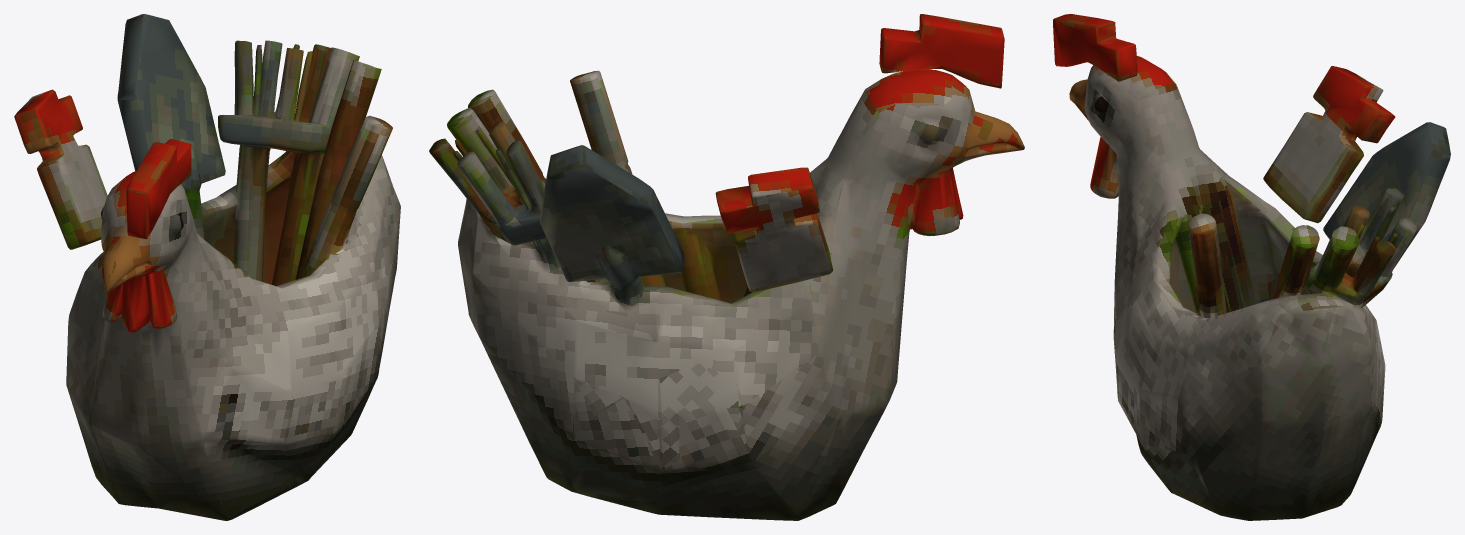
File: chicken_toolpot_psx.glb
The picture shows the model from 3 angles, left to right: view 1: azimuth 30°, elevation 25°; view 2: azimuth 150°, elevation 25°; view 3: azimuth 270°, elevation 25°; orthographic projection. The views are drawn at different scales.
Parts seen in each view (by area): view 1: chicken_toolpot_geo; view 2: chicken_toolpot_geo; view 3: chicken_toolpot_geo.
Boxes of the visible parts, bbox=[...] form: chicken_toolpot_geo: bbox=[14, 14, 400, 520]; chicken_toolpot_geo: bbox=[429, 14, 1024, 520]; chicken_toolpot_geo: bbox=[1053, 14, 1450, 520].
Bounding box in the file's own units: 0.2605 × 0.2585 × 0.2377.
1 material, 1 textured.
